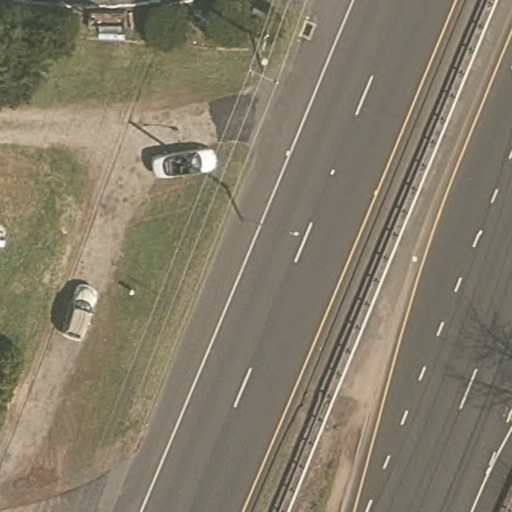DT: (246, 27, 283, 91)
